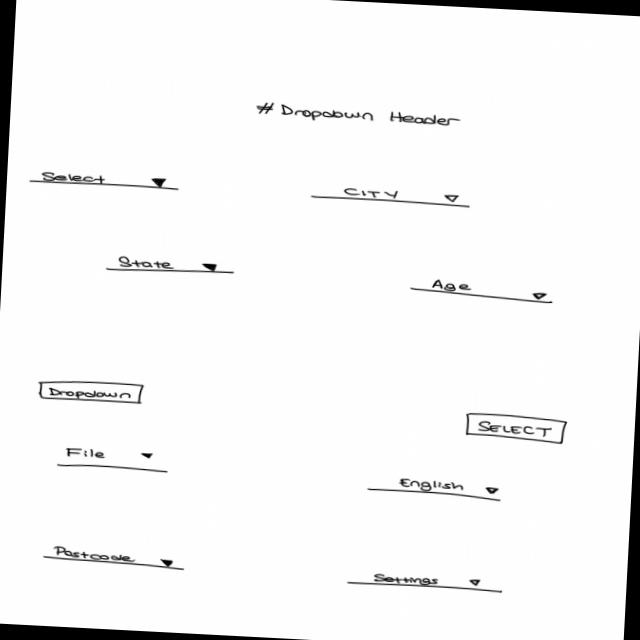button: (464, 412, 570, 447), (37, 378, 148, 408)
label: (254, 100, 464, 131)
select: (409, 277, 556, 307), (41, 545, 187, 575), (346, 571, 506, 597), (310, 185, 475, 210), (366, 475, 505, 504), (30, 170, 185, 194), (56, 447, 172, 477), (105, 254, 237, 280)
